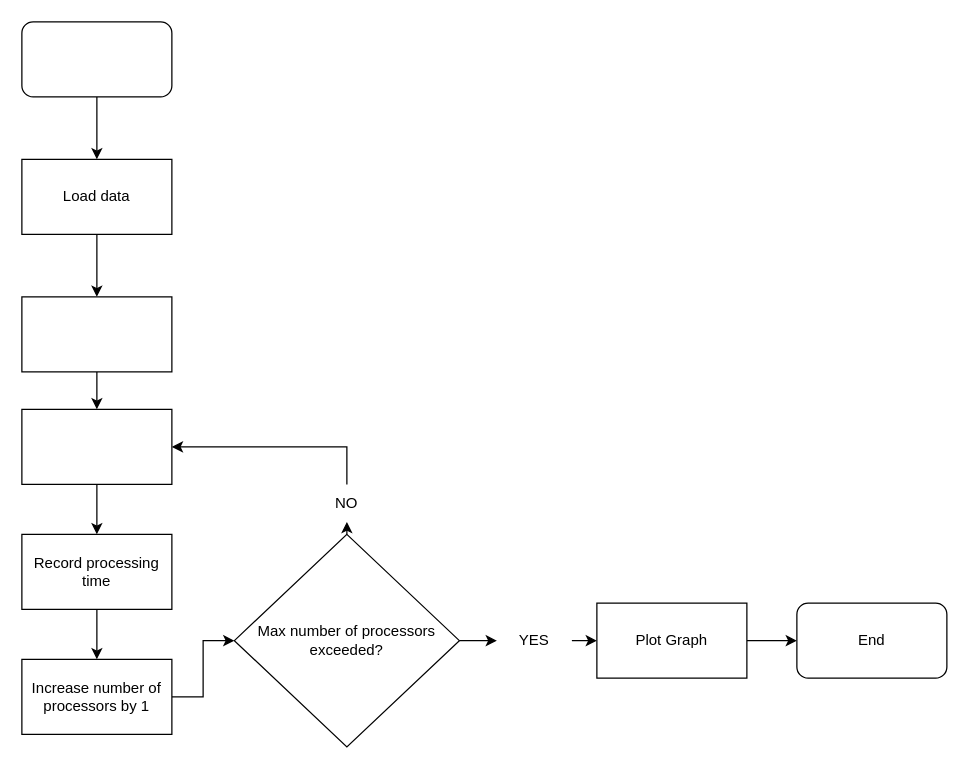
The diagram is 969 pixels wide and 769 high, and some of its shapes have lost their labels. The shapes that lost their labels are listed below. From the top down, each one's centre as x and y in pixels, then its label:
At (x=96, y=59): "Start".
At (x=96, y=334): "Set Number of processors = 0".
At (x=96, y=446): "Parallel process data".
